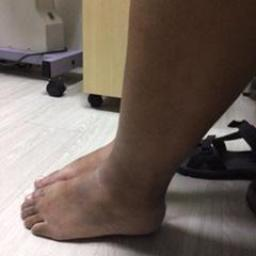Lateral View -Left Foot-: (17, 148, 181, 244)
